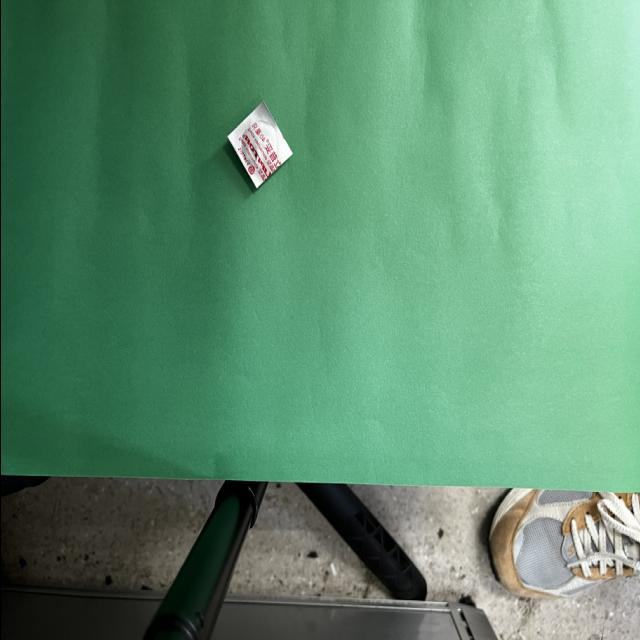Other Objects: (227, 102, 292, 188)
